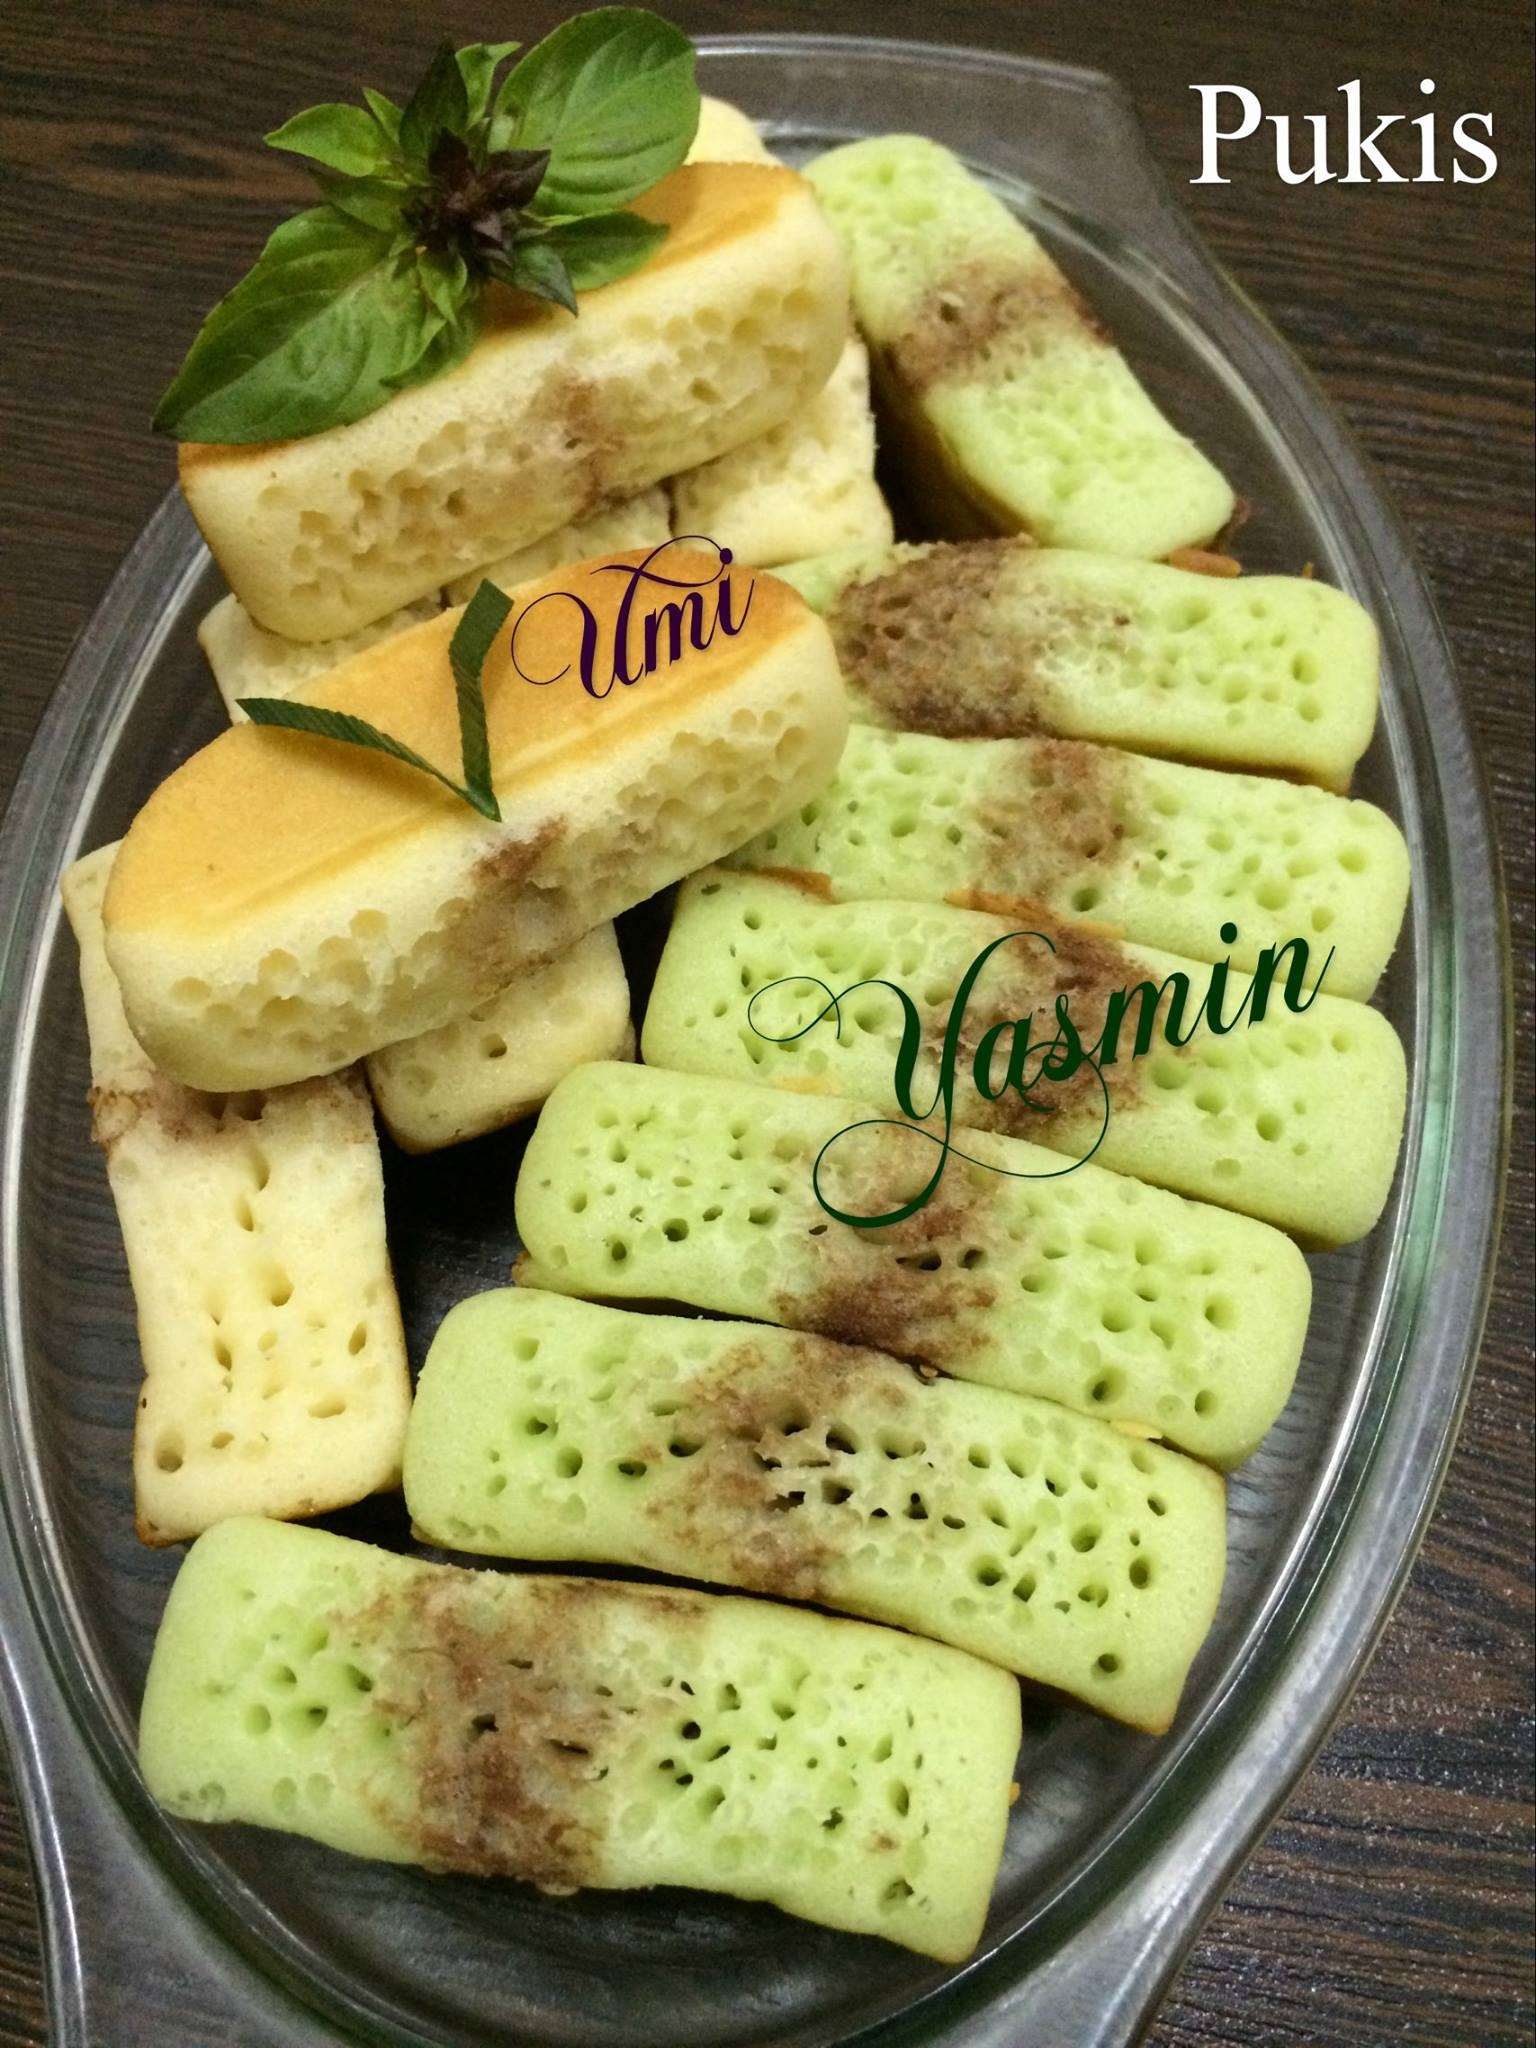pukis: (77, 548, 874, 1019)
